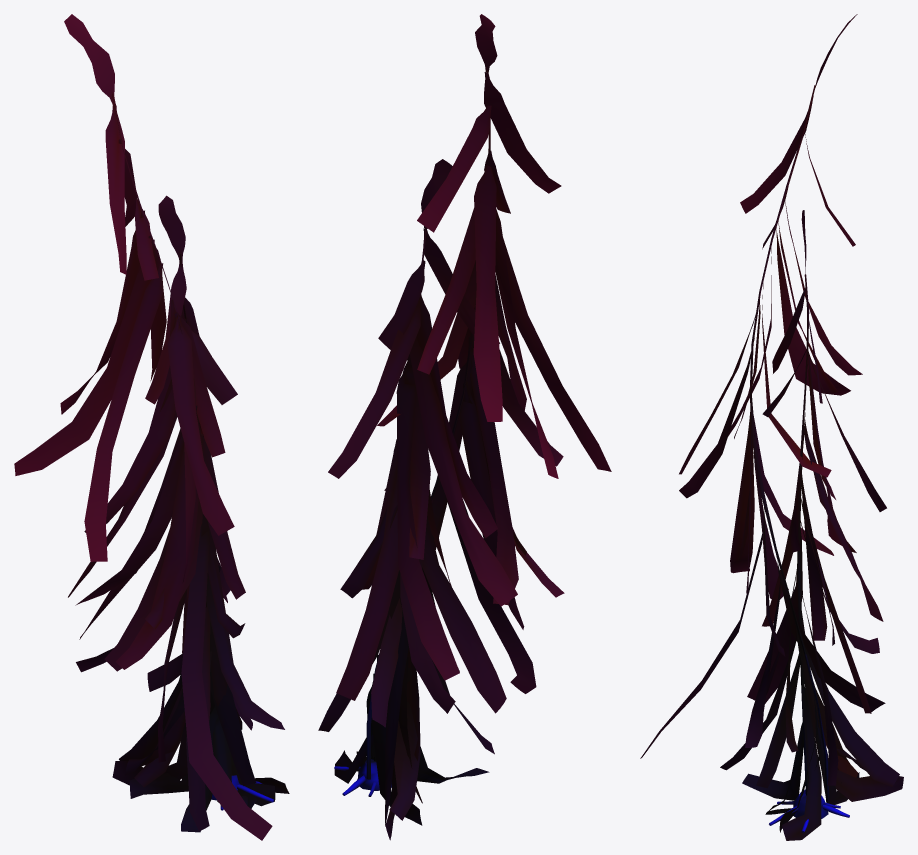
Rendered from MESH_Flora_Kelp_s4023_q050.fbx.
The picture shows the model from 3 angles, left to right: view 1: azimuth 30°, elevation 25°; view 2: azimuth 150°, elevation 25°; view 3: azimuth 270°, elevation 25°; orthographic projection. The views are drawn at different scales.
Visible parts, largest first — view 1: MESH_Flora_Kelp_s4023_q050_LOD0; view 2: MESH_Flora_Kelp_s4023_q050_LOD0; view 3: MESH_Flora_Kelp_s4023_q050_LOD0.
Boxes of the visible parts, x1,y1,x2,y2 form: MESH_Flora_Kelp_s4023_q050_LOD0: [14, 14, 289, 840]; MESH_Flora_Kelp_s4023_q050_LOD0: [318, 14, 611, 840]; MESH_Flora_Kelp_s4023_q050_LOD0: [640, 14, 903, 840].
Size of what is drawn, in the model's own units: 255 by 795 by 254.
